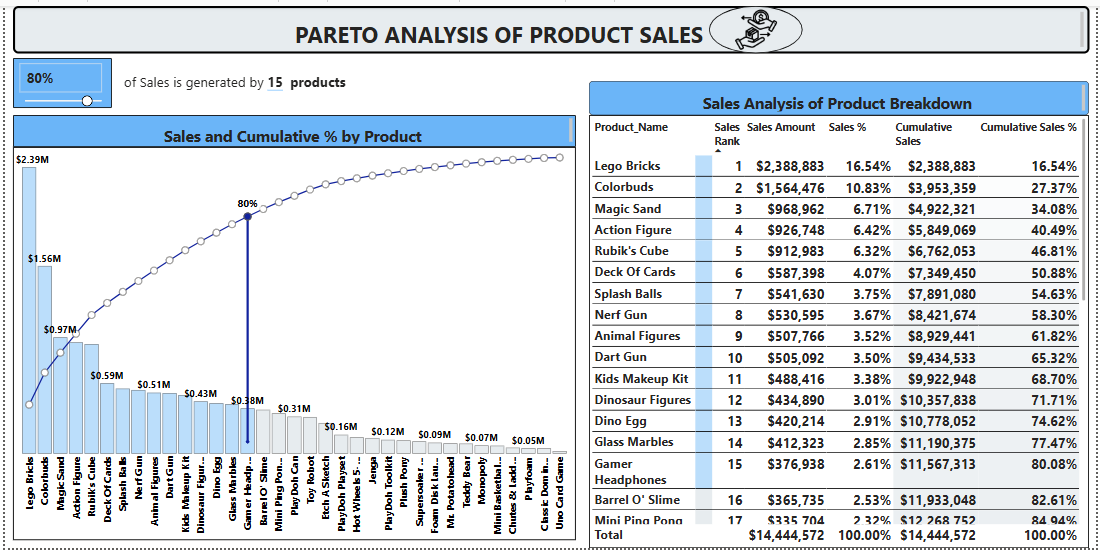

The dashboard page shown, as its layout file describes it:
{"tool":"powerbi","page":{"name":"Page 1","canvas":[2619,1300],"ordinal":0},"visuals":[{"type":"pivotTable","title":"TABLE","fields":{"Values":["sales._Blank","sales.Product Rank by Sales","sales.Sales Amount","sales.Sales %","sales.Cumulative Sales","sales.Cumulative %"],"Rows":["products.Product_Name"]},"box":[1400.7,261.4,1199.3,1038.6],"z":0},{"type":"lineClusteredColumnComboChart","title":"Sales and Cumulative % by Product","fields":{"Category":["products.Product_Name"],"Y":["sales.Sales Amount"],"Y2":["sales.Cumulative Sales %","sales.Cutoff Sales %"]},"box":[19.2,338.2,1350.4,942.6],"z":1000},{"type":"slicer","fields":{"Values":["Parameter2.Parameter2"]},"box":[19.2,124.7,237.5,119.9],"z":2000},{"type":"textbox","box":[280.6,153.5,618.8,67.2],"z":3000},{"type":"textbox","box":[1400.7,179.9,1199.3,81.5],"z":4000},{"type":"textbox","box":[18.5,0,2581.5,113.6],"z":5000},{"type":"shape","box":[1688.4,0,224.6,113.6],"z":5500},{"type":"textbox","box":[18.5,261.6,1350.2,76.6],"z":6000},{"type":"image","box":[1706.9,0,187.6,113.6],"z":8000}]}

Visuals, with their boxes in screenshot pixels (x1, y1, x2, y2), scaled from the page's 2619x1300 canvas onto the 1100x553 screenshot:
"TABLE" pivotTable: <box>588,111,1092,552</box>
"Sales and Cumulative % by Product" lineClusteredColumnComboChart: <box>8,144,575,545</box>
slicer - Parameter2.Parameter2: <box>8,53,108,104</box>
textbox: <box>118,65,378,94</box>
textbox: <box>588,77,1092,111</box>
textbox: <box>8,0,1092,48</box>
shape: <box>709,0,803,48</box>
textbox: <box>8,111,575,144</box>
image: <box>717,0,796,48</box>
